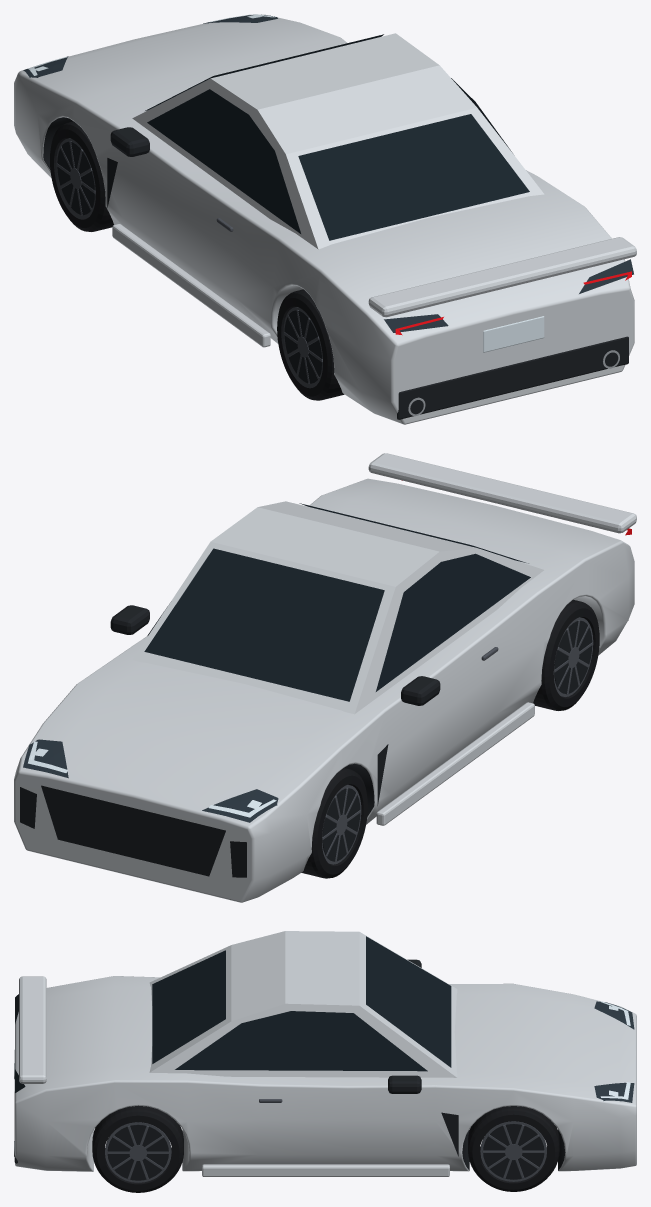
The model's file is gr86_2022_premium.glb.
3 renders of one model, top to bottom at view 1: azimuth 30°, elevation 25°; view 2: azimuth 150°, elevation 25°; view 3: azimuth 270°, elevation 25°, orthographic. The views are drawn at different scales.
Visible parts, largest first — view 1: Body Paint surfaces, Blue Grey Glass surfaces, Satin Black Plastic surfaces, Tire Rubber surfaces.002, Tire Rubber surfaces, Smoked Lamp Housing surfaces, Head Light surfaces, Satin Black Plastic surfaces.001, Satin Black Plastic surfaces.003, Graphite Wheel Metal surfaces, Graphite Wheel Metal surfaces.002; view 2: Body Paint surfaces, Blue Grey Glass surfaces, Satin Black Plastic surfaces, Tire Rubber surfaces.002, Tire Rubber surfaces, Smoked Lamp Housing surfaces, Satin Black Plastic surfaces.001, Satin Black Plastic surfaces.003, Graphite Wheel Metal surfaces, Graphite Wheel Metal surfaces.002, Head Light surfaces; view 3: Body Paint surfaces, Blue Grey Glass surfaces, Tire Rubber surfaces.003, Tire Rubber surfaces.001, Satin Black Plastic surfaces.004, Satin Black Plastic surfaces.002, Graphite Wheel Metal surfaces.003, Graphite Wheel Metal surfaces.001, Smoked Lamp Housing surfaces, Satin Black Plastic surfaces, Head Light surfaces.
Boxes of the visible parts, box(x1,y1,x2,y2) form: Body Paint surfaces: box(14, 14, 636, 424); Blue Grey Glass surfaces: box(145, 34, 529, 240); Satin Black Plastic surfaces: box(107, 127, 628, 419); Tire Rubber surfaces.002: box(277, 289, 344, 400); Tire Rubber surfaces: box(50, 121, 113, 231); Smoked Lamp Housing surfaces: box(23, 14, 633, 332); Head Light surfaces: box(28, 14, 544, 352); Satin Black Plastic surfaces.001: box(57, 141, 95, 215); Satin Black Plastic surfaces.003: box(284, 310, 322, 383); Graphite Wheel Metal surfaces: box(56, 138, 95, 217); Graphite Wheel Metal surfaces.002: box(283, 307, 322, 386); Body Paint surfaces: box(14, 453, 636, 902); Blue Grey Glass surfaces: box(144, 503, 530, 701); Satin Black Plastic surfaces: box(20, 605, 628, 877); Tire Rubber surfaces.002: box(533, 599, 599, 710); Tire Rubber surfaces: box(301, 768, 367, 878); Smoked Lamp Housing surfaces: box(23, 739, 278, 822); Satin Black Plastic surfaces.001: box(322, 788, 360, 861); Satin Black Plastic surfaces.003: box(554, 620, 592, 694); Graphite Wheel Metal surfaces: box(322, 785, 361, 864); Graphite Wheel Metal surfaces.002: box(553, 617, 593, 696); Head Light surfaces: box(28, 741, 276, 817); Body Paint surfaces: box(15, 931, 636, 1176); Blue Grey Glass surfaces: box(152, 936, 451, 1071); Tire Rubber surfaces.003: box(92, 1105, 183, 1192); Tire Rubber surfaces.001: box(468, 1106, 559, 1191); Satin Black Plastic surfaces.004: box(107, 1124, 168, 1180); Satin Black Plastic surfaces.002: box(483, 1124, 544, 1179); Graphite Wheel Metal surfaces.003: box(105, 1122, 171, 1182); Graphite Wheel Metal surfaces.001: box(480, 1121, 546, 1181); Smoked Lamp Housing surfaces: box(15, 994, 634, 1102); Satin Black Plastic surfaces: box(14, 959, 458, 1163); Head Light surfaces: box(14, 1001, 630, 1099).
Bounding box in the file's own units: 2.03 × 1.31 × 4.27.
